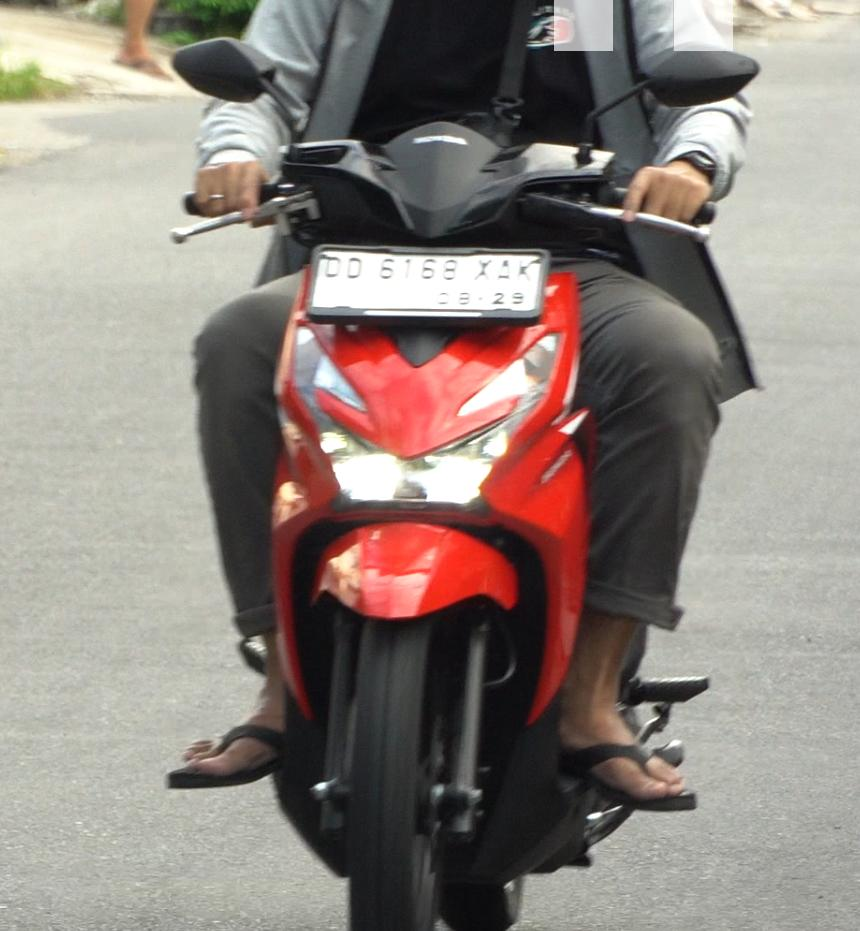number-plate: (302, 244, 543, 318)
